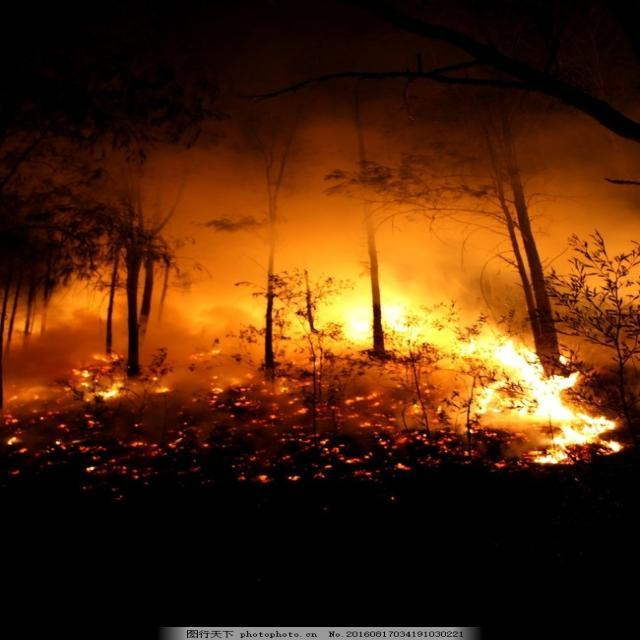Fire: (1, 280, 626, 486)
Smoke: (1, 106, 640, 292)
